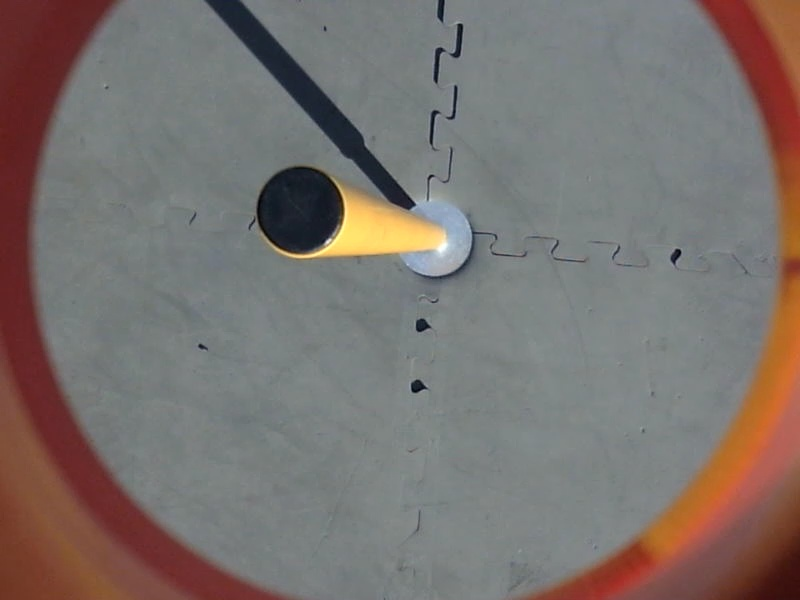tip: (253, 164, 358, 261)
